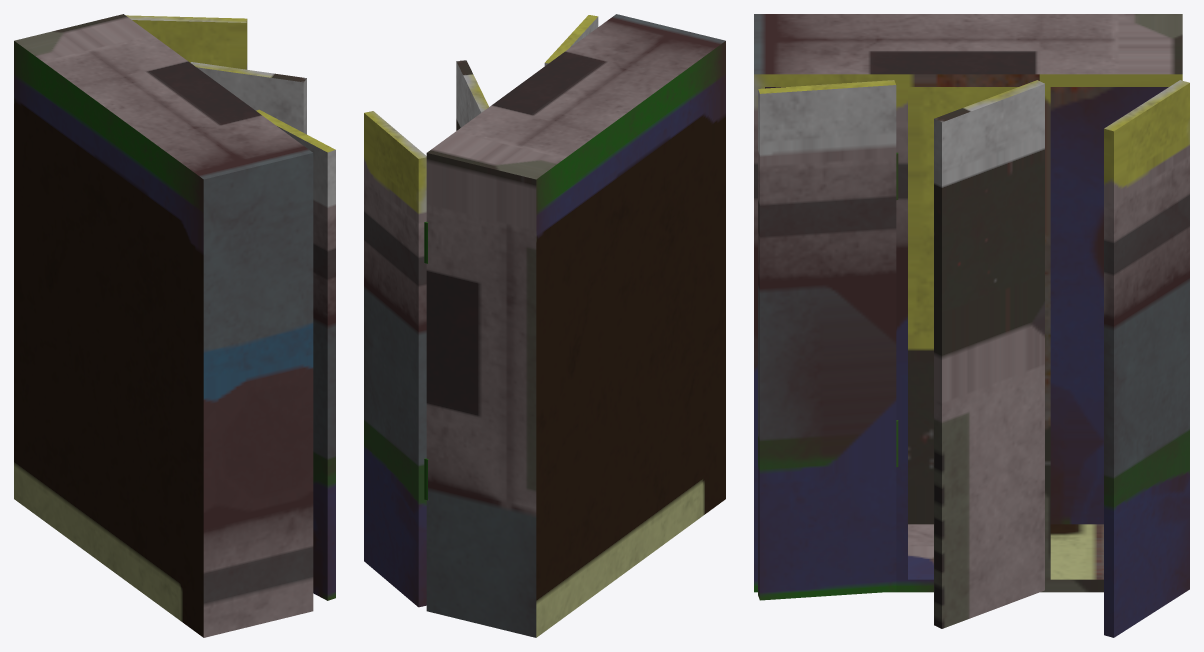
File: Cabinet.fbx
3 renders of one model, left to right at view 1: azimuth 30°, elevation 25°; view 2: azimuth 150°, elevation 25°; view 3: azimuth 270°, elevation 25°, orthographic. The views are drawn at different scales.
Visible parts, largest first — view 1: Cabinet; view 2: Cabinet; view 3: Cabinet.
Part boxes in pixels (x1=…): Cabinet: x1=14, y1=14, x2=335, y2=637; Cabinet: x1=364, y1=14, x2=725, y2=637; Cabinet: x1=754, y1=14, x2=1189, y2=637.
Bounding box in the file's own units: 93.44 × 202 × 154.
